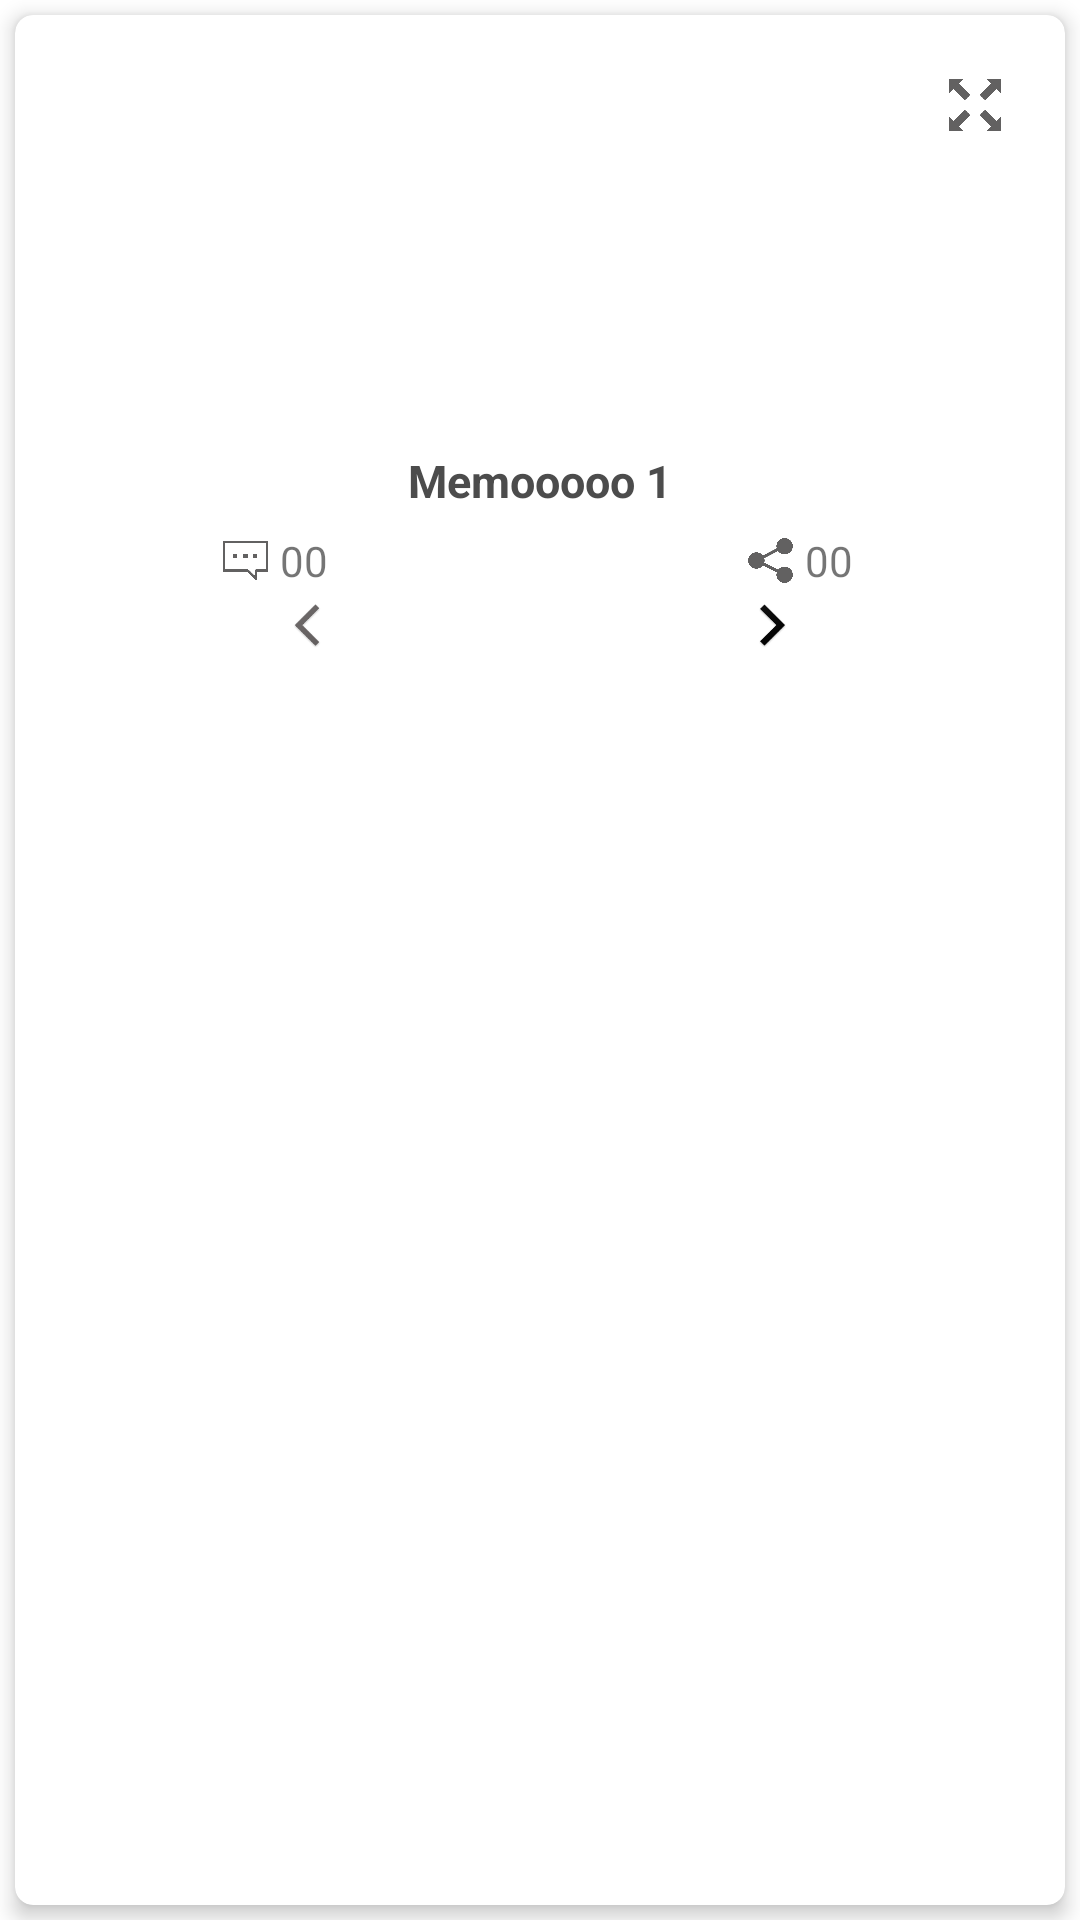

Icons on this 1080px x 1920px Android screen, each with its box as (x1, y1, x2, y2):
expand arrows: (949, 79, 1001, 131)
faint back: (295, 604, 319, 646)
front: (760, 604, 785, 646)
opinion: (223, 541, 268, 580)
share: (748, 538, 793, 583)
